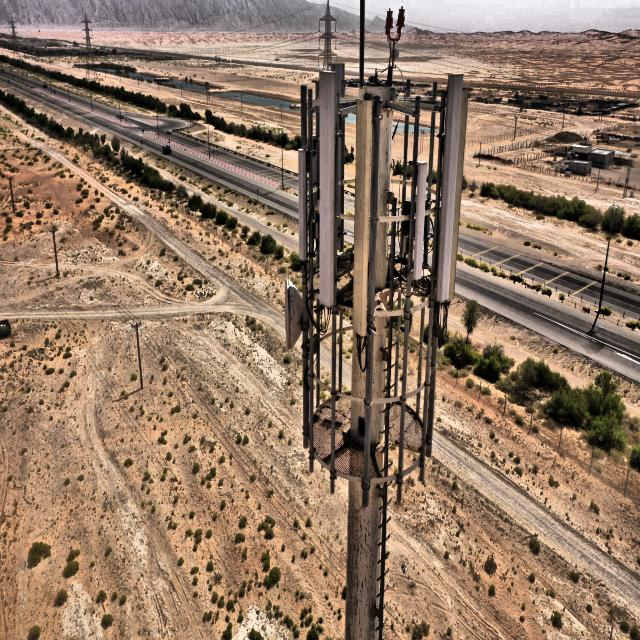antenna: (457, 269, 639, 377), (352, 99, 373, 335), (318, 71, 337, 306), (413, 161, 428, 280), (298, 148, 307, 261)
